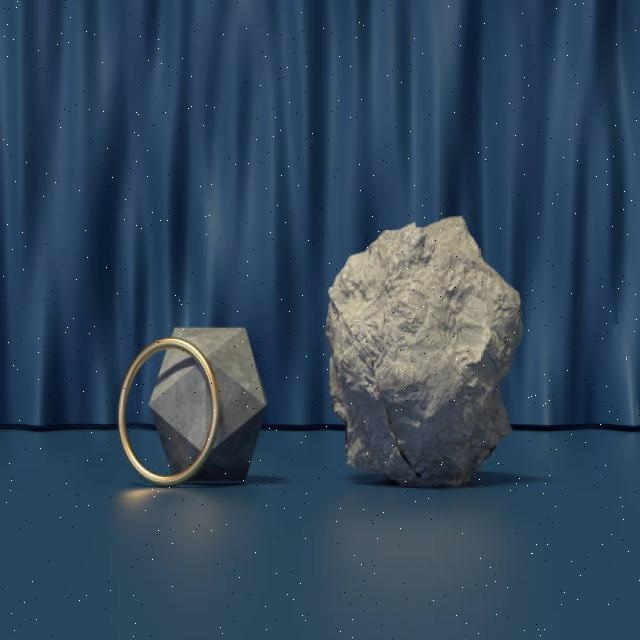Metamorphic: (324, 208, 525, 481), (148, 320, 273, 482)
